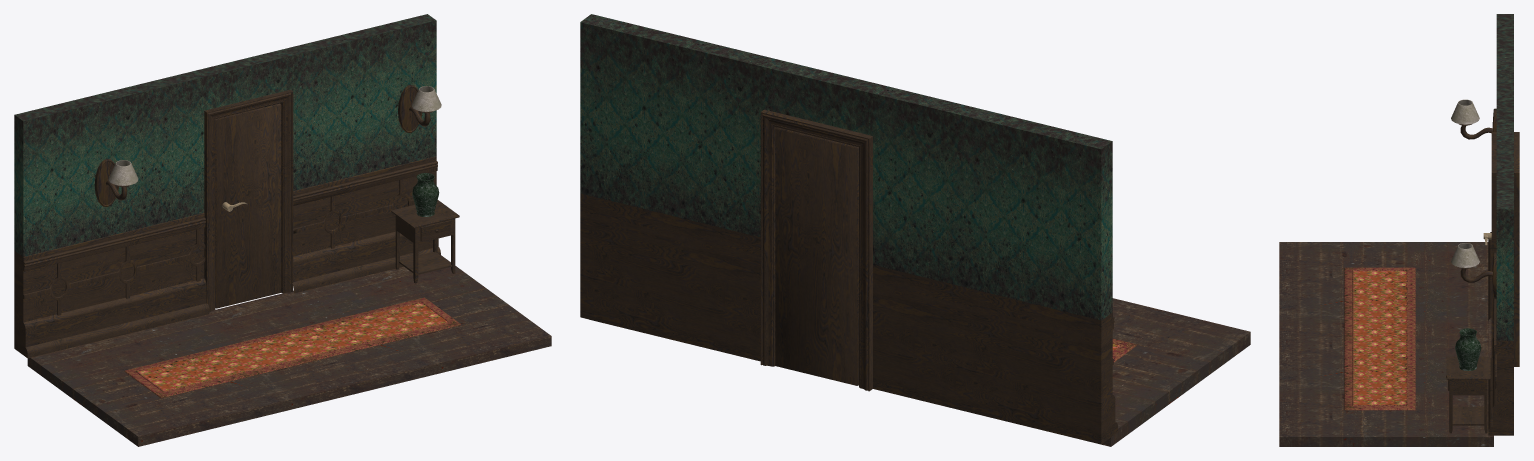
Rendered from hallway.fbx.
3 views of the same model, side by side, from view 1: azimuth 30°, elevation 25°; view 2: azimuth 150°, elevation 25°; view 3: azimuth 270°, elevation 25° (orthographic). The views are drawn at different scales.
Visible parts, largest first — view 1: Wall.003, Floor.001, Door, Carpet, Doorframe, Side_Table, Wall_Light.001, Wall_Light1.001, Vase; view 2: Wall.003, Door, Floor.001, Doorframe; view 3: Floor.001, Carpet, Wall.003, Doorframe, Side_Table, Wall_Light1.001, Wall_Light.001, Vase.
Boxes of the visible parts, x1,y1,x2,y2 form: Wall.003: (14,14,440,358); Floor.001: (27,255,551,446); Door: (215,103,281,308); Carpet: (124,297,460,398); Doorframe: (204,90,293,312); Side_Table: (391,200,459,283); Wall_Light.001: (94,158,138,207); Wall_Light1.001: (398,84,441,133); Vase: (412,173,439,216); Wall.003: (580,14,1117,444); Door: (775,127,858,385); Floor.001: (594,298,1250,446); Doorframe: (760,109,872,391); Floor.001: (1279,242,1493,446); Carpet: (1344,267,1415,410); Wall.003: (1488,14,1513,435); Doorframe: (1491,132,1519,366); Side_Table: (1446,356,1490,433); Wall_Light1.001: (1451,243,1496,298); Wall_Light.001: (1451,99,1496,139); Vase: (1455,328,1481,370).
Size of the model in its own units: 554 by 311 by 286.
